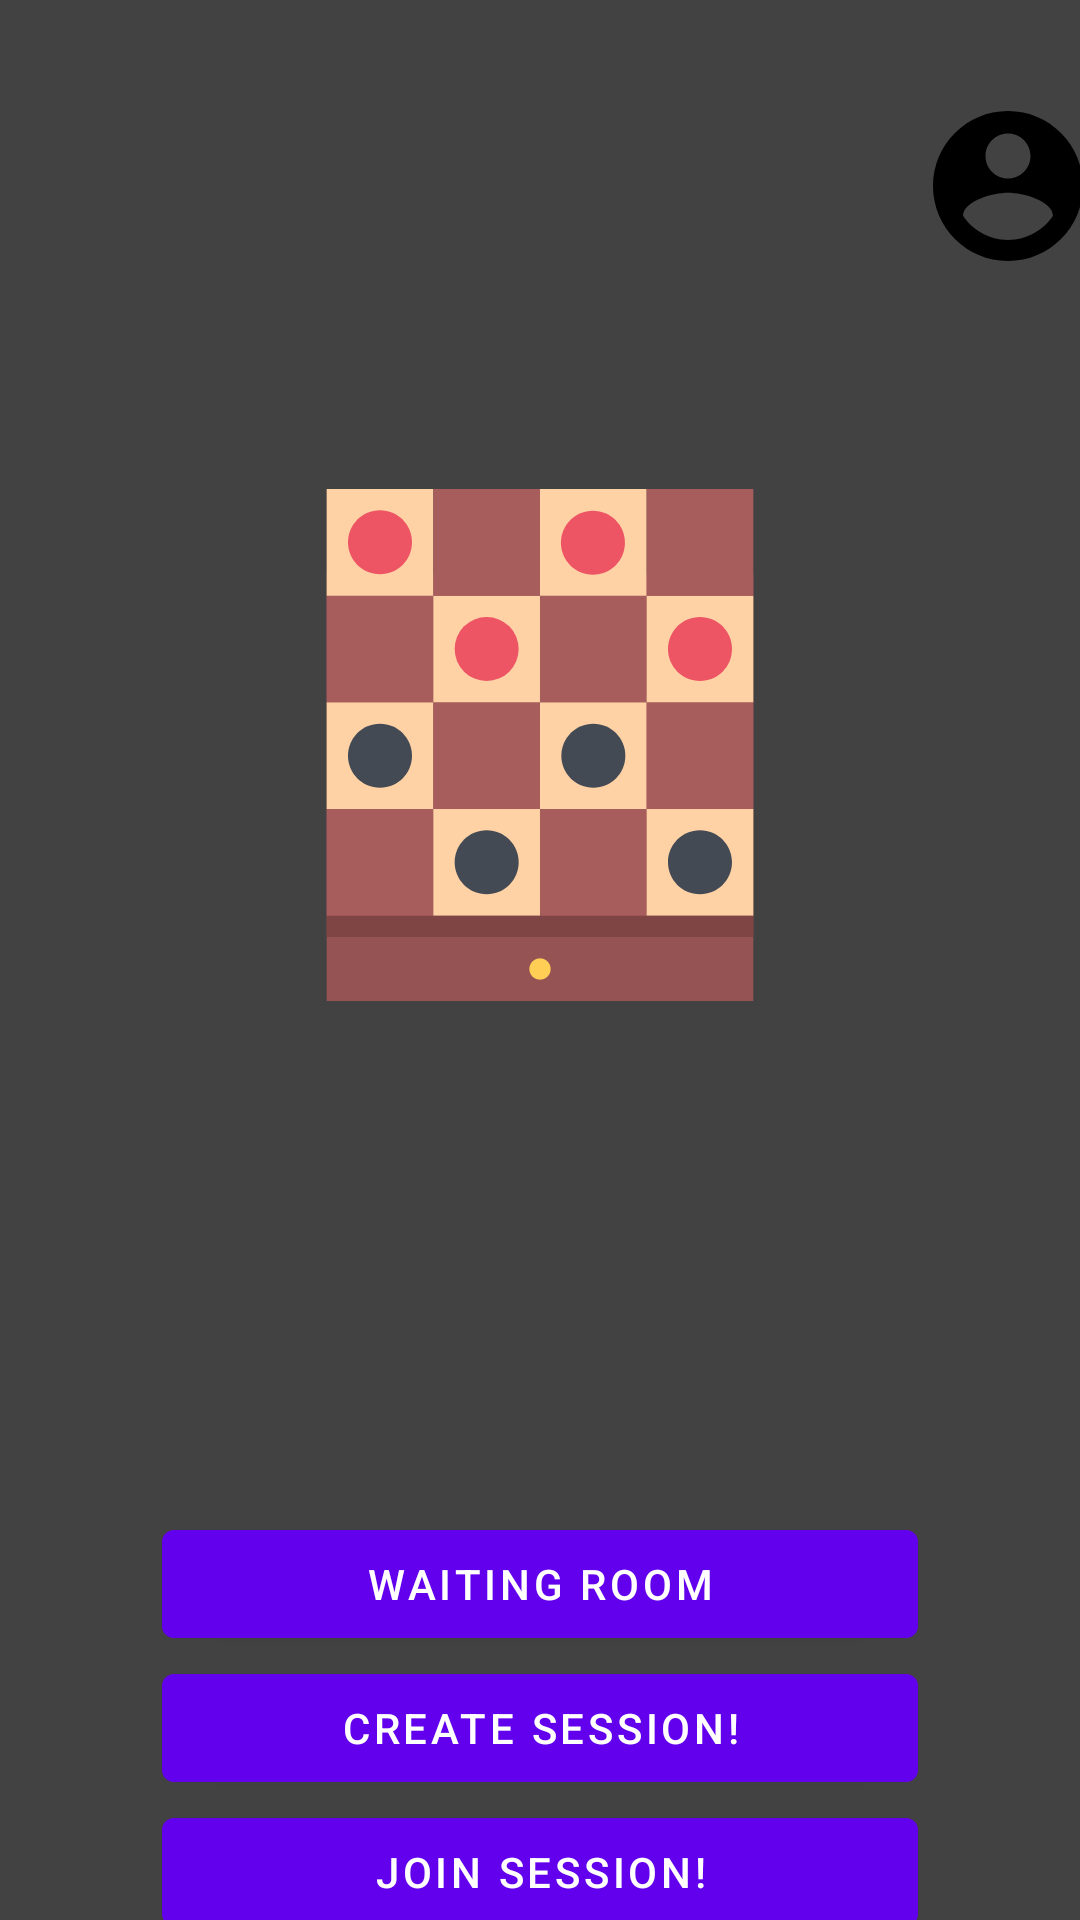

Where icons sit on this 1080*1920 app screen, as [x1,y1,x2,y2]:
user: [933,111,1080,261]
